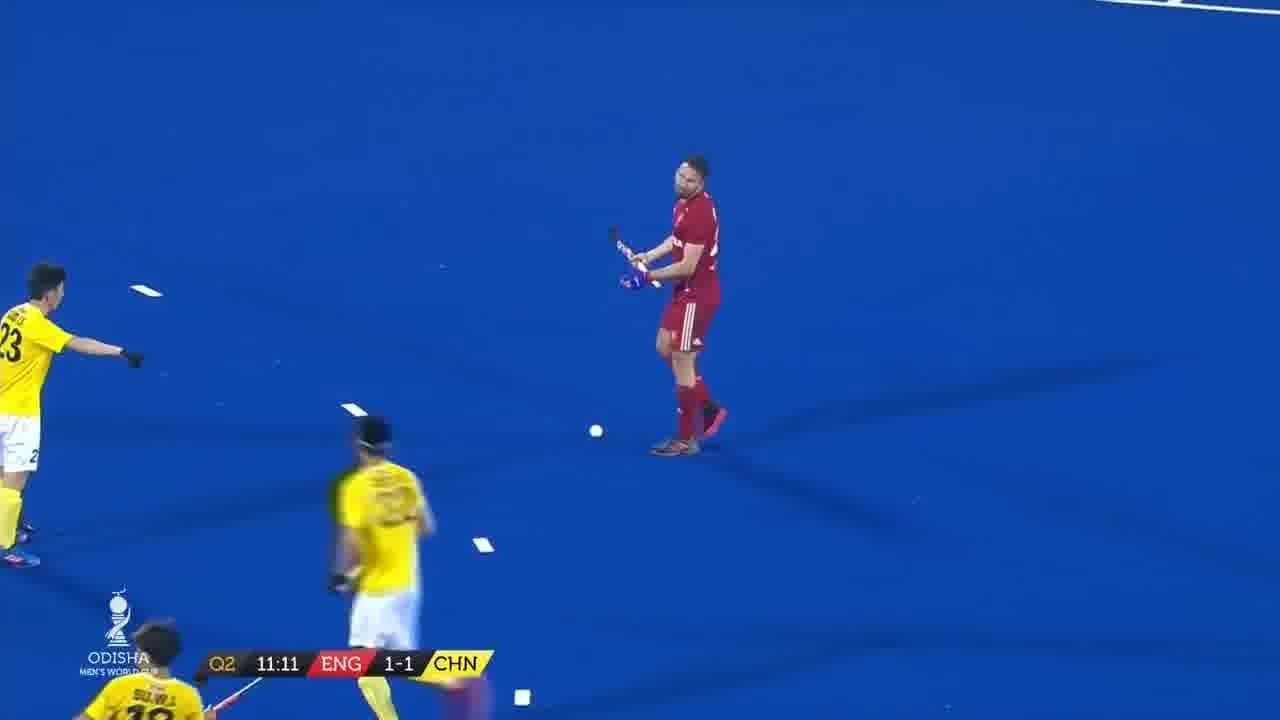ball: (586, 426, 604, 446)
